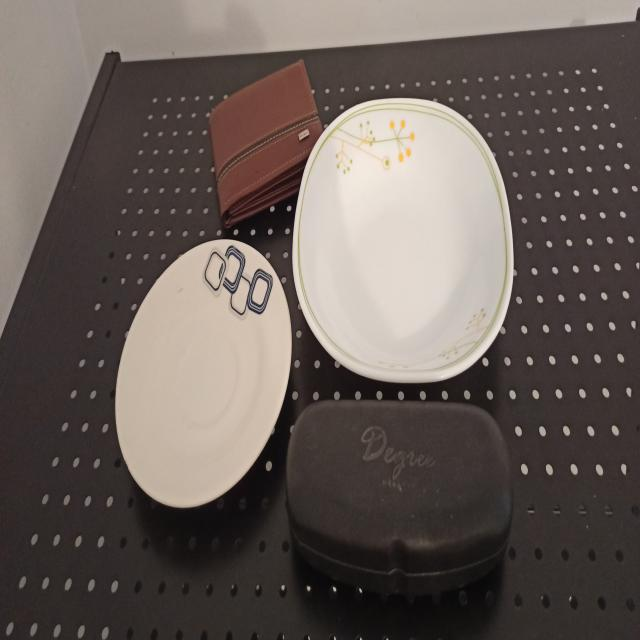non-organic waste: (276, 87, 524, 398), (108, 217, 298, 538)
